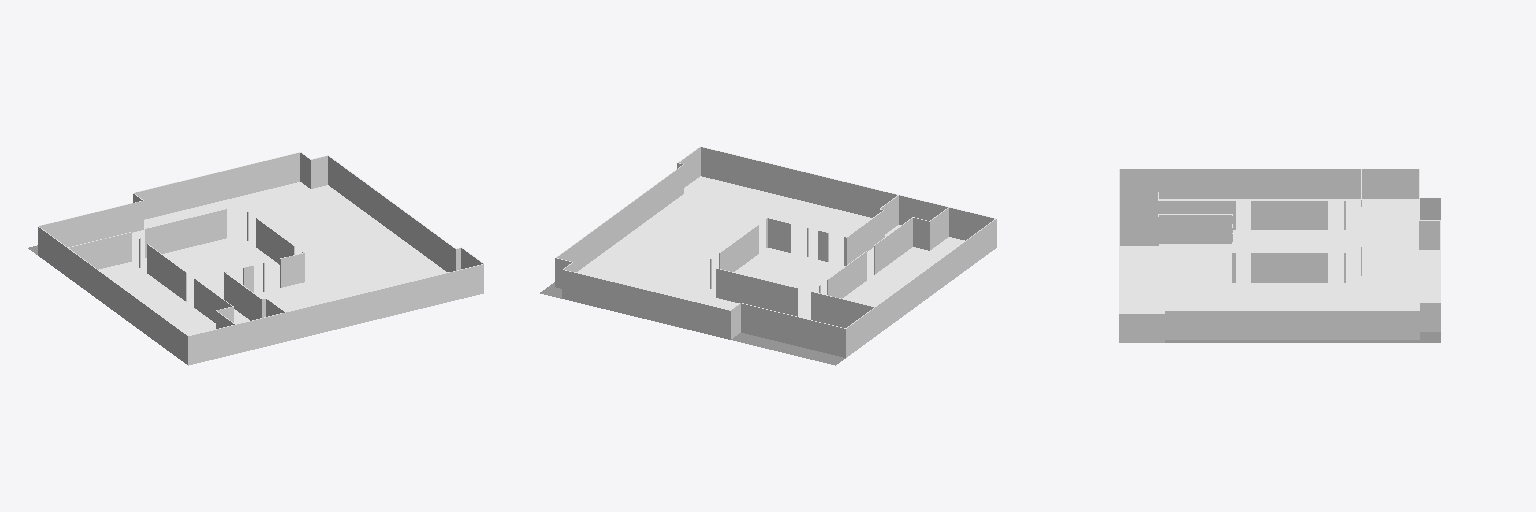
Rendered from San_Jose_3.obj.
The picture shows the model from 3 angles: view 1: azimuth 30°, elevation 25°; view 2: azimuth 150°, elevation 25°; view 3: azimuth 270°, elevation 25°; orthographic projection.
Visible parts, largest first — view 1: room_30_176, wall_26_155, wall_23_137, wall_17_100, wall_19_113, wall_25_149, wall_6_35, wall_11_65, wall_10_58, wall_16_95, wall_4_22, wall_14_82 (+3 smaller); view 2: room_30_176, wall_26_154, wall_23_136, wall_17_100, wall_19_113, wall_25_148, wall_6_34, wall_10_59, ground_1, wall_3_16, wall_14_82, wall_8_47 (+5 smaller); view 3: room_30_176, wall_17_101, wall_19_112, wall_8_46, wall_4_23, wall_14_83, ground_1, wall_18_106, wall_12_71, wall_3_17, wall_1_5, wall_22_130 (+1 smaller).
Boxes of the visible parts, x1,y1,x2,y2 form: room_30_176: [99, 182, 447, 335]; wall_26_155: [286, 264, 483, 341]; wall_23_137: [134, 153, 299, 219]; wall_17_100: [38, 227, 187, 364]; wall_19_113: [328, 156, 455, 271]; wall_25_149: [39, 201, 143, 246]; wall_6_35: [145, 209, 226, 257]; wall_11_65: [235, 313, 285, 353]; wall_10_58: [69, 232, 131, 269]; wall_16_95: [188, 325, 235, 365]; wall_4_22: [147, 244, 186, 301]; wall_14_82: [224, 272, 261, 320]; room_30_176: [576, 176, 964, 319]; wall_26_154: [701, 147, 896, 217]; wall_23_136: [562, 270, 730, 339]; wall_17_100: [846, 219, 996, 357]; wall_19_113: [557, 165, 683, 271]; wall_25_148: [741, 303, 845, 357]; wall_6_34: [716, 269, 797, 316]; wall_10_59: [811, 292, 873, 327]; ground_1: [540, 282, 845, 365]; wall_3_16: [874, 218, 912, 274]; wall_14_82: [847, 210, 884, 264]; wall_8_47: [720, 225, 758, 271]; room_30_176: [1120, 199, 1439, 312]; wall_17_101: [1120, 169, 1418, 198]; wall_19_112: [1165, 311, 1419, 339]; wall_8_46: [1251, 253, 1327, 282]; wall_4_23: [1251, 201, 1327, 229]; wall_14_83: [1159, 215, 1231, 243]; ground_1: [1165, 198, 1440, 342]; wall_18_106: [1120, 314, 1164, 342]; wall_12_71: [1120, 217, 1158, 245]; wall_3_17: [1158, 201, 1235, 229]; wall_1_5: [1120, 192, 1157, 216]; wall_22_130: [1420, 303, 1440, 331].
Size of the model in its own units: 2656 by 250 by 2498.